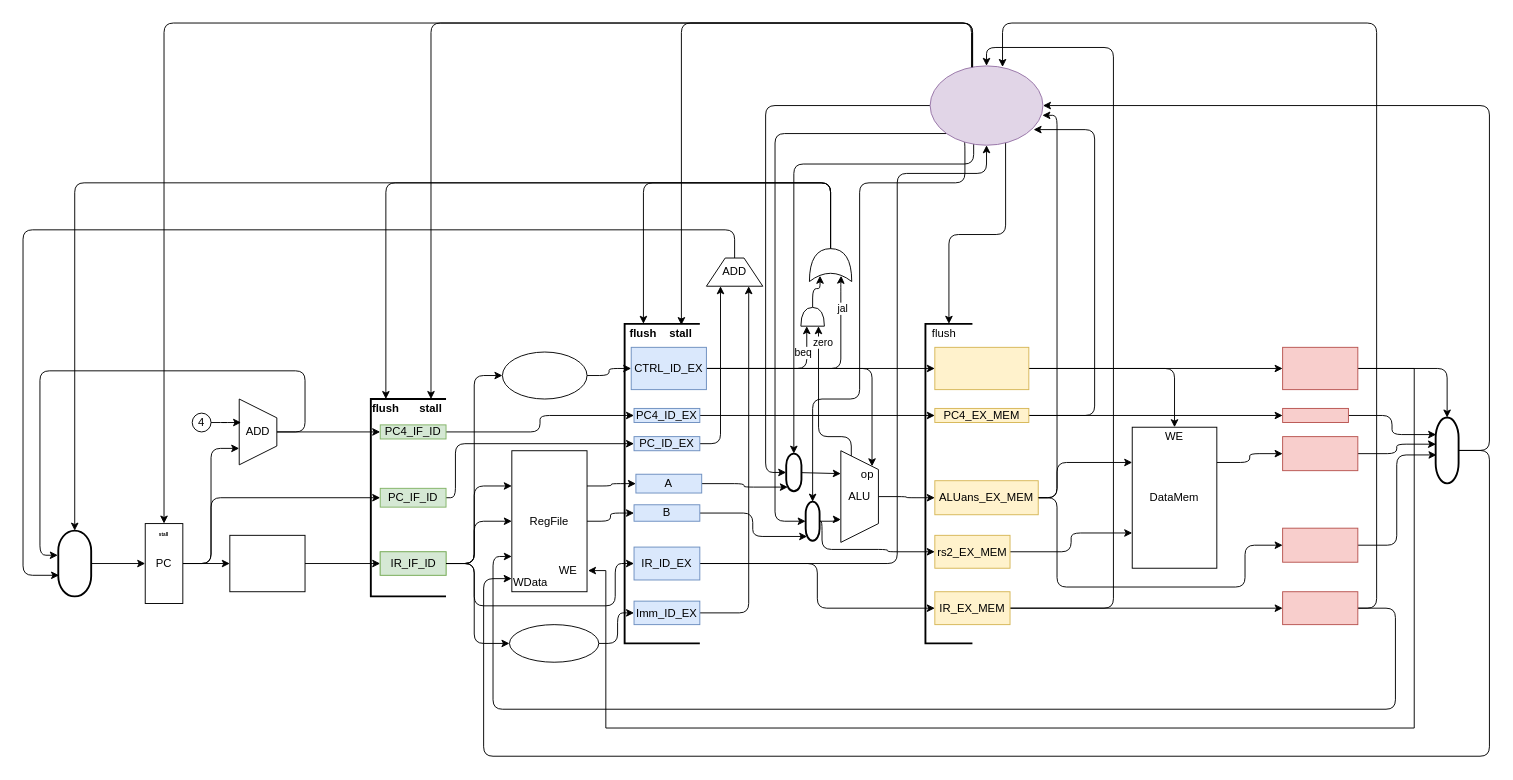
The diagram is 1513 pixels wide and 780 high, and some of its shapes have lost their labels. Each missing label, with the centre of its shape:
"ALUans_WB" belongs at [1320,544].
"control" belongs at [544,375].
"CTRL_EX_MEM" belongs at [981,368].
"CTRL_WB" belongs at [1320,368].
"DataHazard" belongs at [986,105].
"Imm" belongs at [554,643].
"Ins Mem" belongs at [267,563].
"IR_WB" belongs at [1320,608].
"MemData_WB" belongs at [1320,453].
"PC4_WB" belongs at [1315,415].
